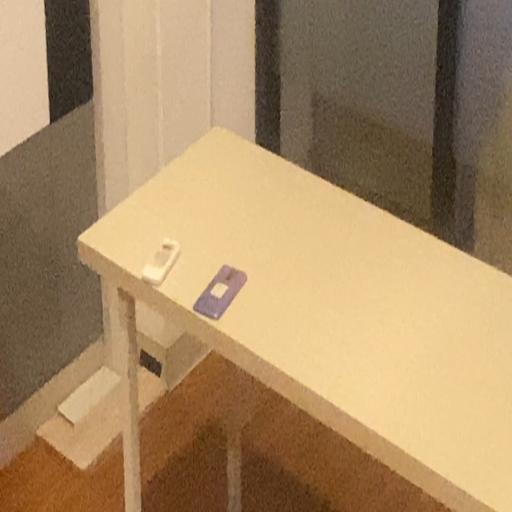hp: (192, 252, 253, 342)
meja: (71, 106, 512, 512)
remote AC: (134, 226, 188, 302)
